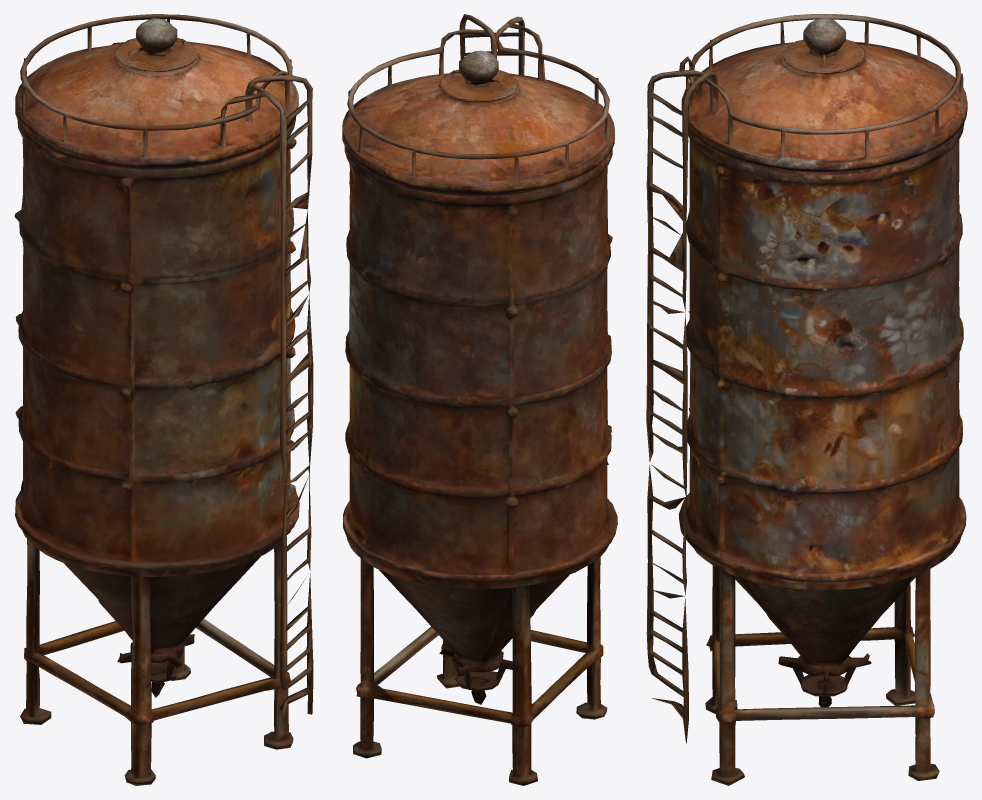
Rendered from qr_silo.glb.
3 renders of one model, left to right at view 1: azimuth 30°, elevation 25°; view 2: azimuth 150°, elevation 25°; view 3: azimuth 270°, elevation 25°, orthographic. The views are drawn at different scales.
Visible parts, largest first — view 1: tripo_node_1630ff40-92ed-4159-96fd-acd383530987; view 2: tripo_node_1630ff40-92ed-4159-96fd-acd383530987; view 3: tripo_node_1630ff40-92ed-4159-96fd-acd383530987.
Part boxes in pixels (x1,y1,x2,y2): tripo_node_1630ff40-92ed-4159-96fd-acd383530987: (14,14,313,785); tripo_node_1630ff40-92ed-4159-96fd-acd383530987: (342,14,617,785); tripo_node_1630ff40-92ed-4159-96fd-acd383530987: (646,14,967,785).
Bounding box in the file's own units: 0.3593 × 0.9798 × 0.3953.
1 material, 1 textured.
